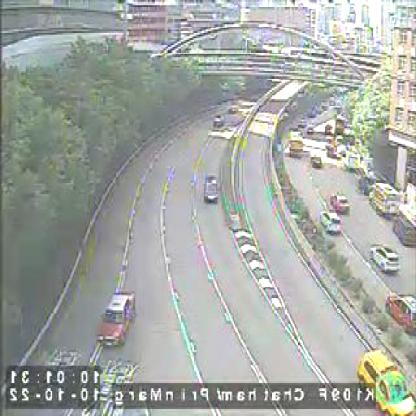Car: (96, 290, 134, 347), (387, 292, 416, 335), (371, 245, 401, 275), (394, 214, 416, 247), (203, 172, 219, 204), (320, 212, 340, 234), (331, 190, 349, 211), (310, 154, 322, 170), (213, 114, 224, 129)
Truck: (358, 346, 416, 412), (369, 181, 401, 218)
